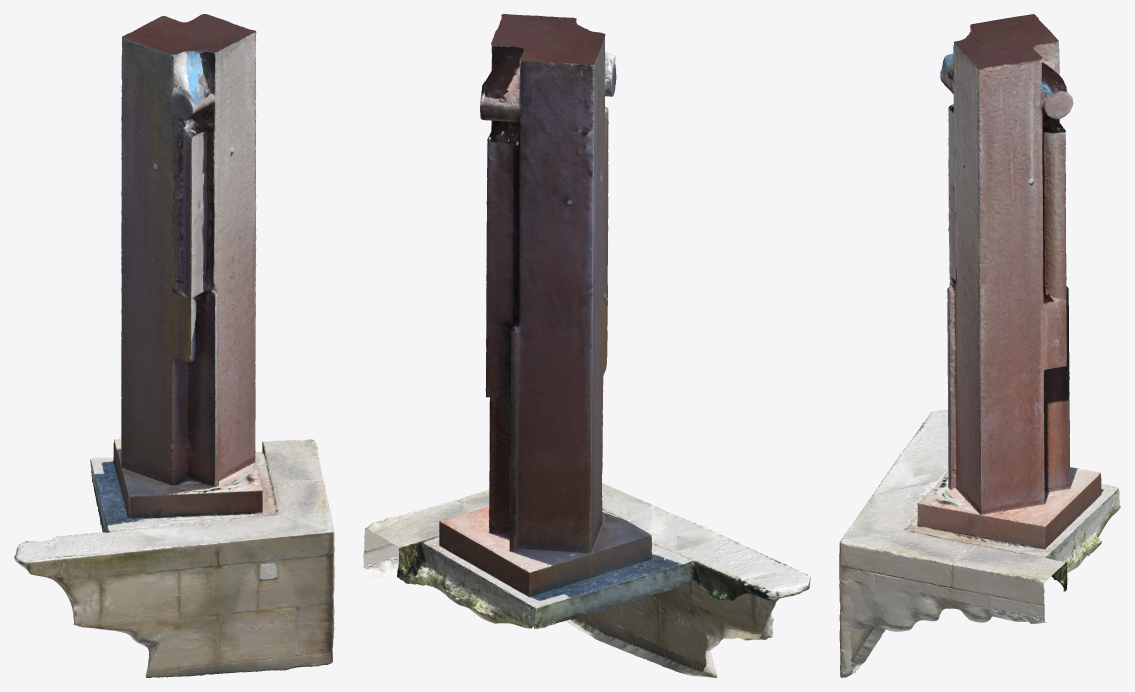
3 views of the same model, side by side, from view 1: azimuth 30°, elevation 25°; view 2: azimuth 150°, elevation 25°; view 3: azimuth 270°, elevation 25° (orthographic). The views are drawn at different scales.
Parts seen in each view (by area): view 1: 1k.25k; view 2: 1k.25k; view 3: 1k.25k.
Part boxes in pixels (left/top/right/bottom): 1k.25k: left=14, top=14, right=334, bottom=677; 1k.25k: left=363, top=14, right=810, bottom=677; 1k.25k: left=839, top=14, right=1120, bottom=677.
Size of the model in its own units: 3.43 by 5.57 by 2.34.
1 material, 1 textured.
